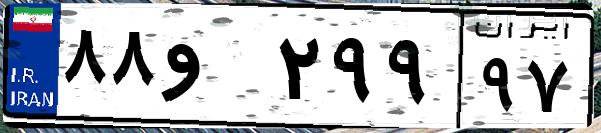2: (270, 28, 330, 110)
7: (525, 38, 570, 115)
8: (57, 26, 110, 100), (110, 28, 158, 98)
9: (385, 28, 445, 110), (330, 28, 385, 110), (475, 38, 525, 113)
و: (158, 20, 270, 120)
